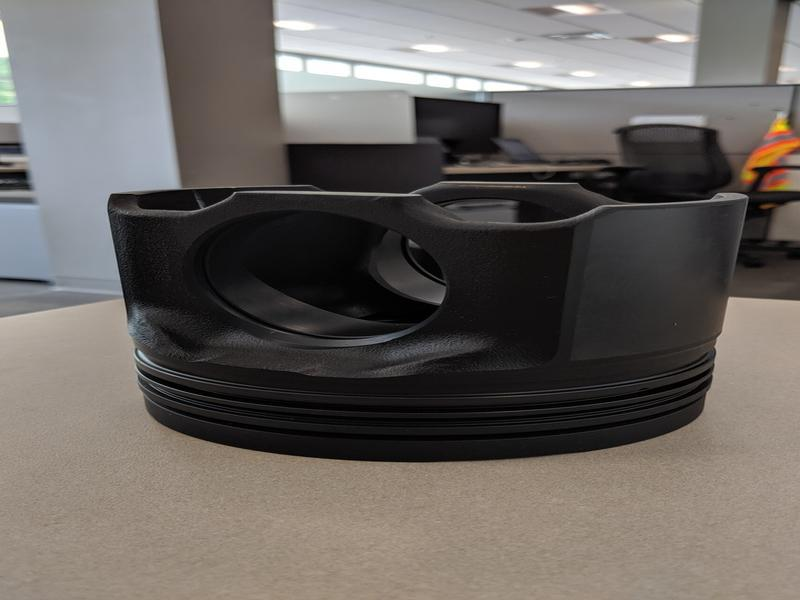piston: (105, 177, 753, 469)
